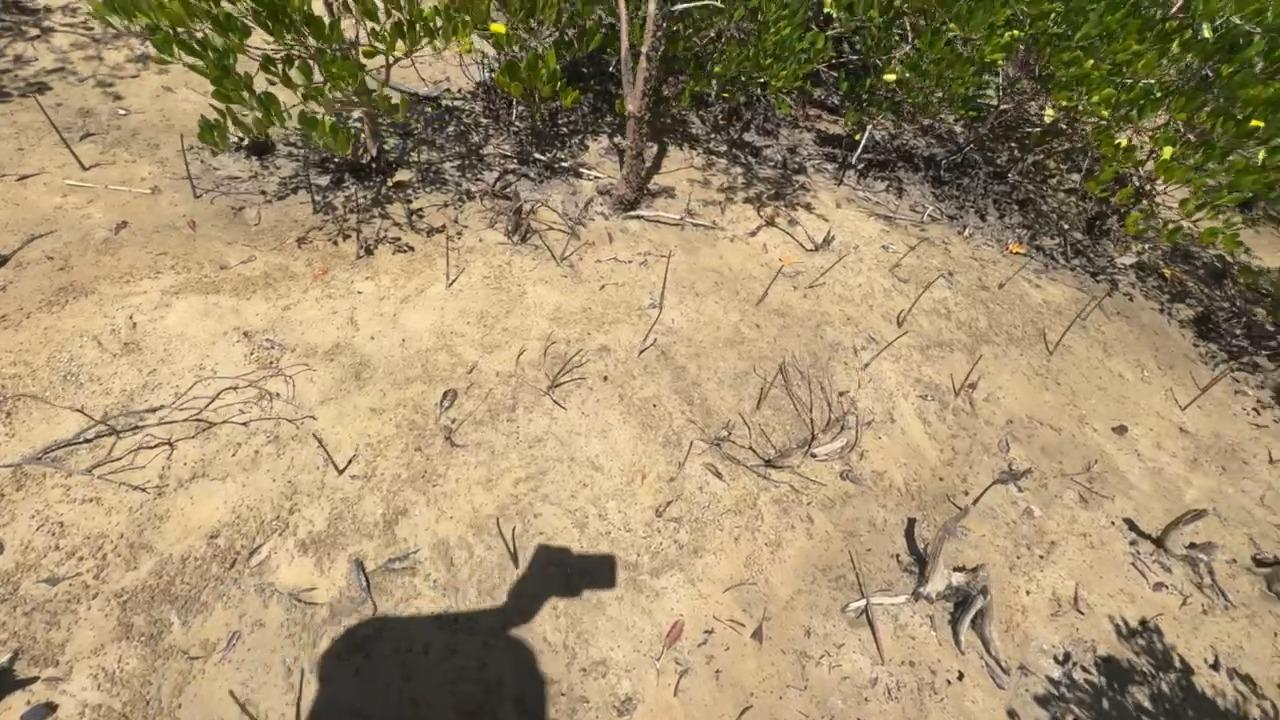Tree: (28, 90, 86, 174), (852, 546, 886, 664), (1046, 291, 1097, 354), (311, 525, 346, 612), (896, 272, 947, 330), (1181, 368, 1229, 413), (860, 330, 910, 371), (806, 253, 850, 291), (310, 429, 345, 475), (888, 236, 927, 274), (996, 254, 1037, 289), (951, 353, 982, 398), (754, 365, 783, 410), (755, 263, 784, 307), (496, 516, 519, 569), (180, 132, 197, 200), (670, 437, 694, 482), (227, 687, 257, 720), (291, 665, 308, 720), (659, 247, 674, 309), (1081, 289, 1112, 318), (641, 310, 665, 341), (561, 238, 592, 261), (1200, 367, 1229, 390), (304, 165, 317, 214), (352, 188, 361, 258), (637, 335, 656, 358), (444, 228, 451, 288)
